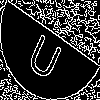U: (25, 25, 68, 83)
